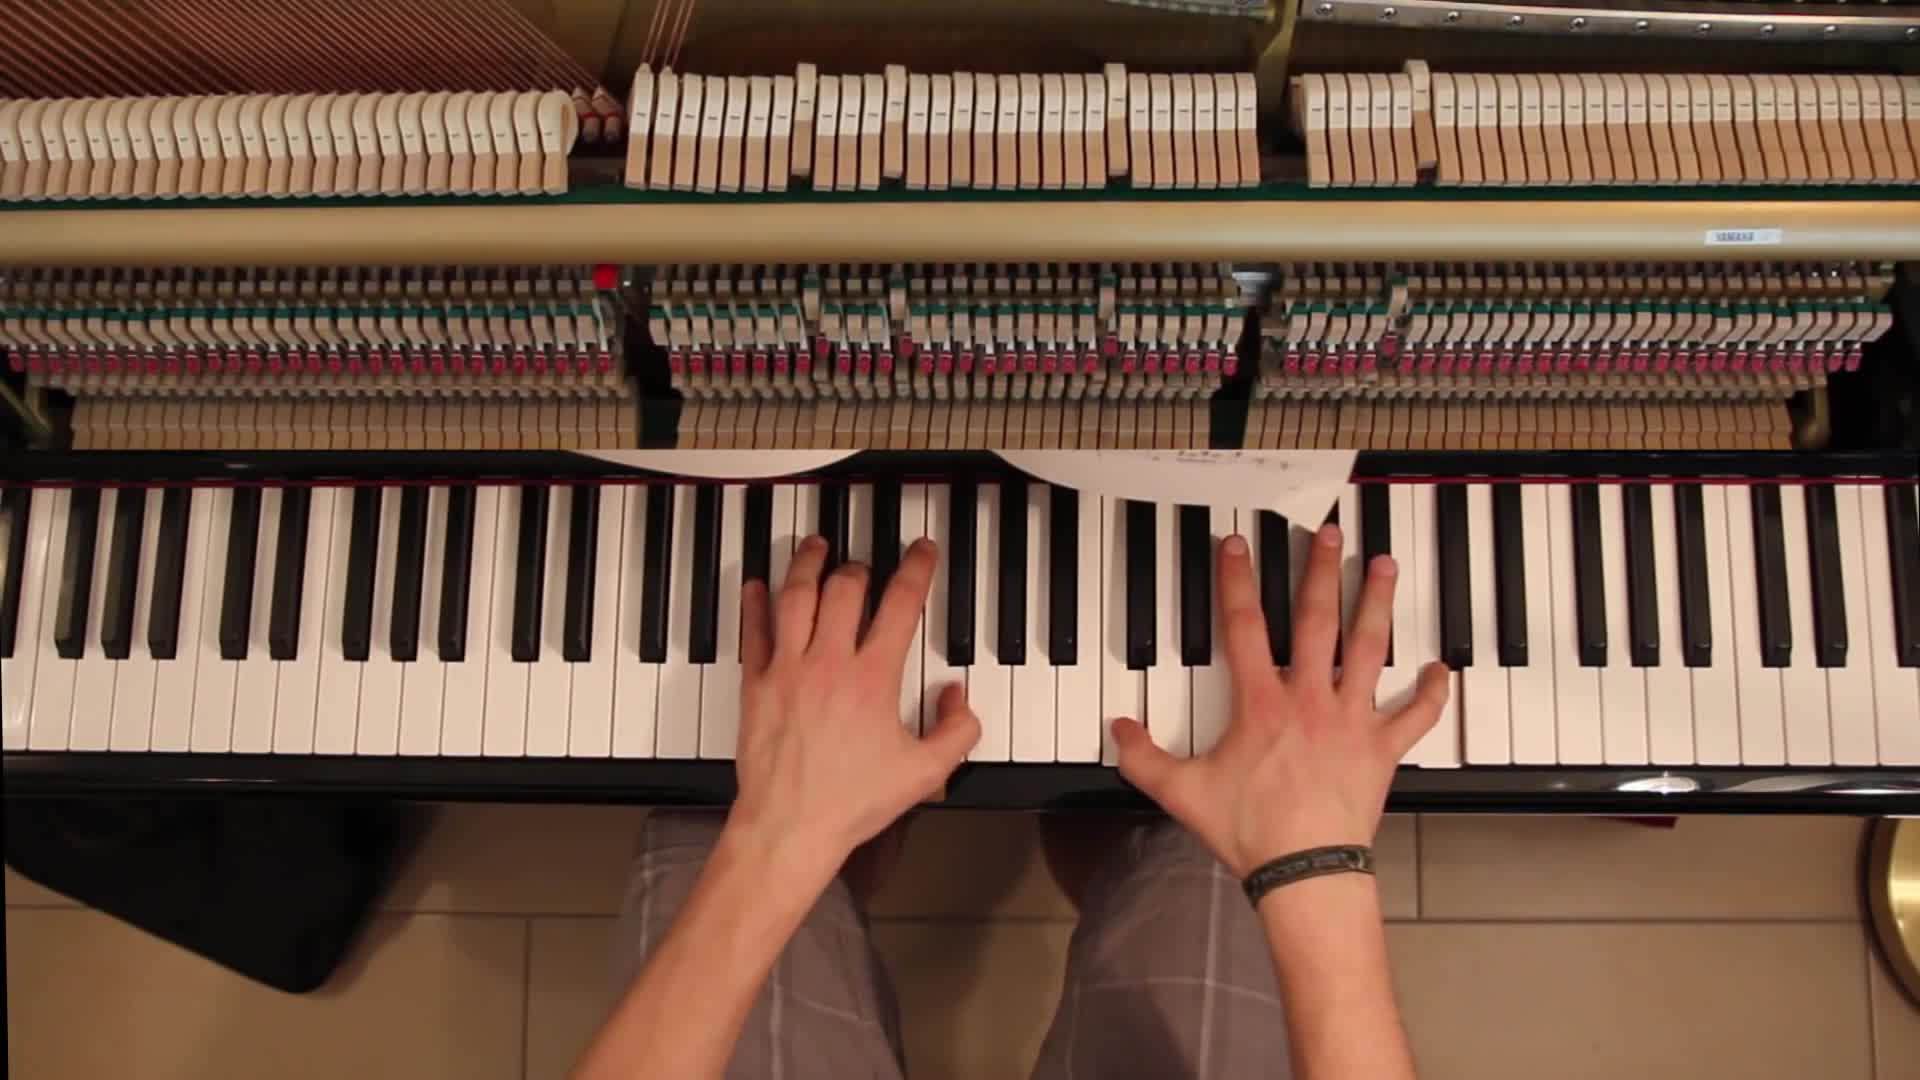left: (735, 527, 982, 818)
right: (1098, 517, 1455, 855)
